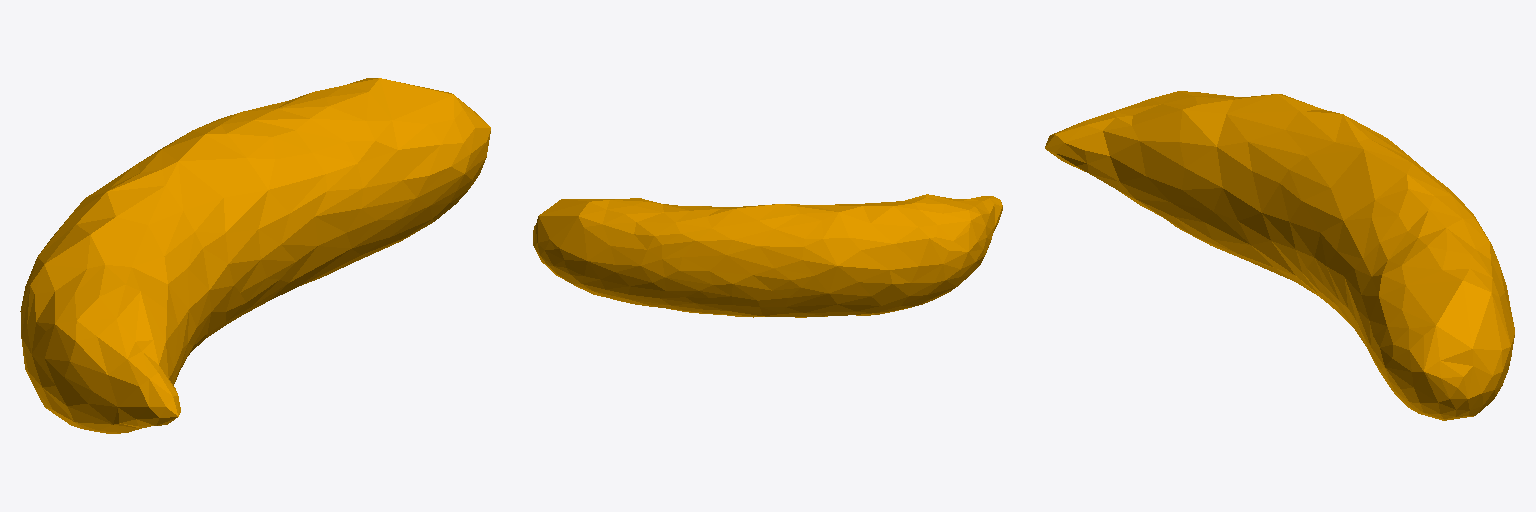
robot.urdf — banana:
<?xml version="1.0"?>
<robot name="banana">
  <link name="base_link">
    <contact>
      <lateral_friction value="1.0"/>
      <rolling_friction value="0.0"/>
      <contact_cfm value="0.0"/>
      <contact_erp value="1.0"/>
    </contact>
    <inertial>
      <mass value="0.159247985917"/>
      <inertia ixx="1" ixy="0" ixz="0" iyy="1" iyz="0" izz="1"/>
    </inertial>
    <visual>
      <geometry>
        <mesh filename="banana_visual.obj"/>
      </geometry>
    </visual>
    <collision>
      <geometry>
        <mesh filename="banana_collision.obj"/>
      </geometry>
    </collision>
  </link>
</robot>

--- Render facts (derived) ---
3 views of the same robot in one strip: view 1: azimuth 30°, elevation 25°; view 2: azimuth 150°, elevation 25°; view 3: azimuth 270°, elevation 25° (orthographic).
Model banana with 1 links and 0 joints (none), rooted at base_link, posed all joints at 0.
Links seen in each view (by area): view 1: base_link; view 2: base_link; view 3: base_link.
Link boxes in pixels (x1,y1,x2,y2): base_link: [20, 78, 490, 433]; base_link: [533, 194, 1002, 317]; base_link: [1045, 91, 1514, 420].
Bounding box of the posed robot: 0.09 × 0.07 × 0.0265 m (x, y, z).
Meshes: 1 distinct files referenced, 1 mesh visuals loaded (1 OBJ).